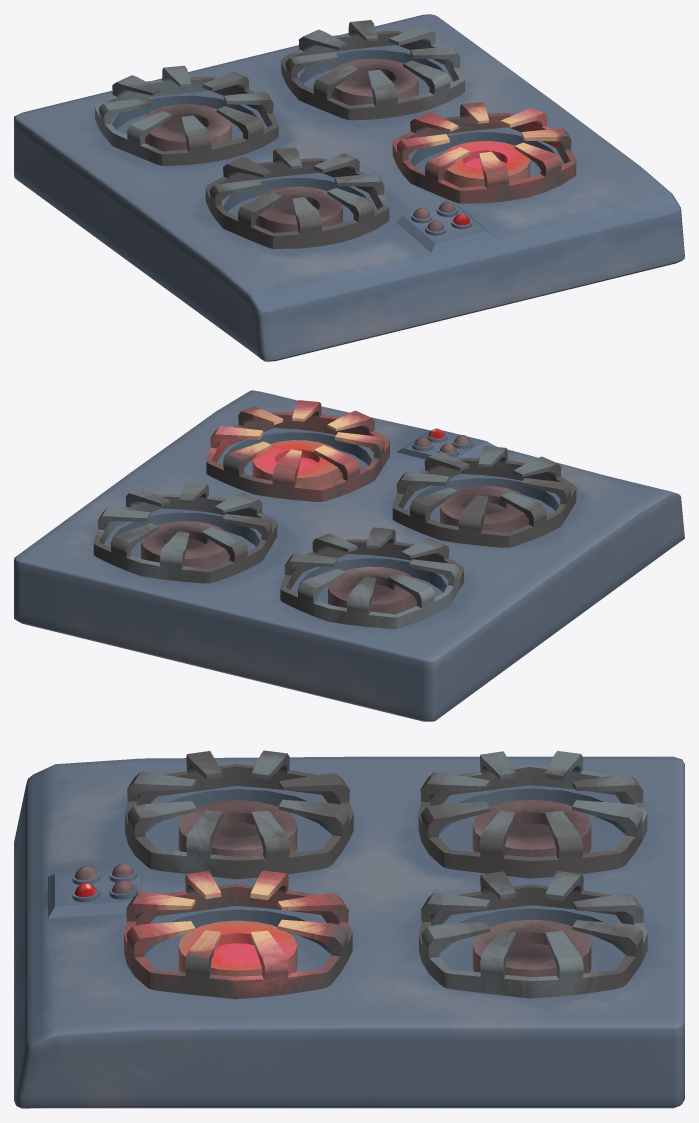
Rendered from StoveTop_Model.fbx.
The picture shows the model from 3 angles, top to bottom: view 1: azimuth 30°, elevation 25°; view 2: azimuth 150°, elevation 25°; view 3: azimuth 270°, elevation 25°; orthographic projection. The views are drawn at different scales.
Parts seen in each view (by area): view 1: pCube10; view 2: pCube10; view 3: pCube10.
Boxes of the visible parts, <box> form: pCube10: <box>14,14,684,361</box>; pCube10: <box>14,390,684,721</box>; pCube10: <box>14,750,684,1108</box>.
Size of the model in its own units: 25.67 by 5.42 by 26.77.
4 materials, 4 textured.
